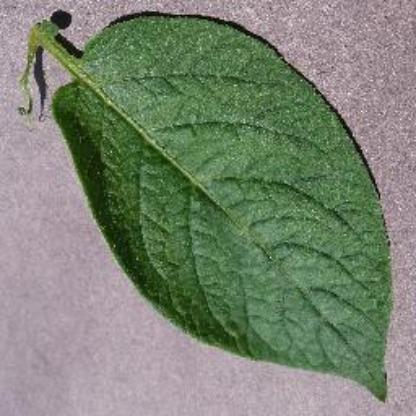Healthy-plant: (4, 7, 402, 406)
